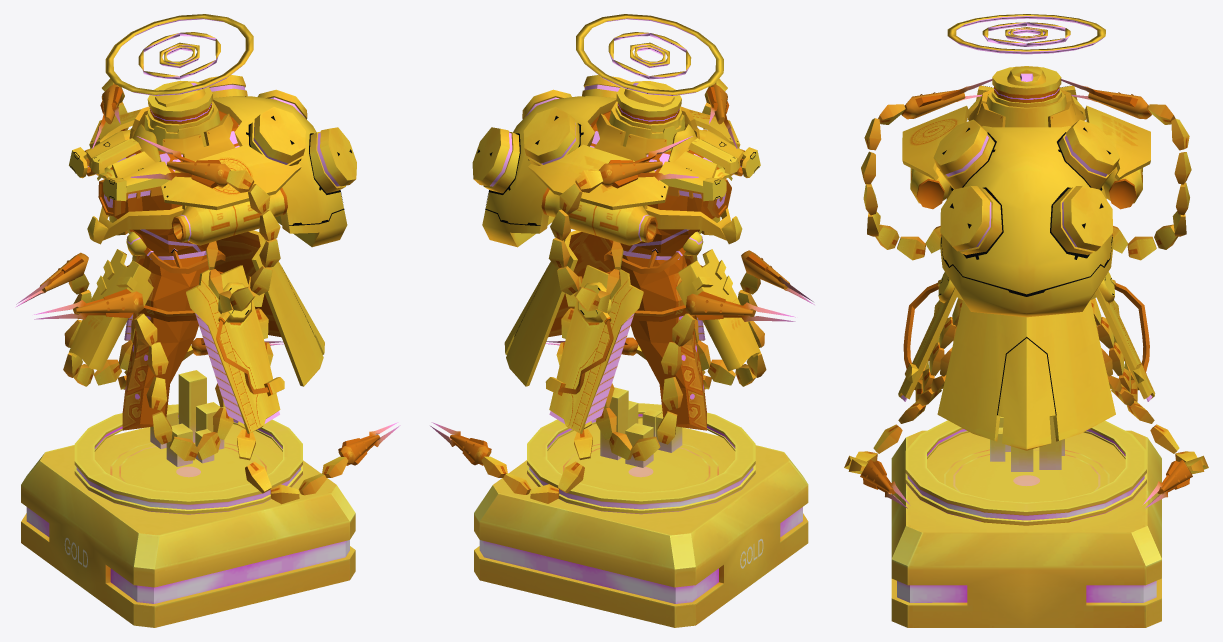
Rendered from my_trophy_hod_city_gold.glb.
3 renders of one model, left to right at view 1: azimuth 30°, elevation 25°; view 2: azimuth 150°, elevation 25°; view 3: azimuth 270°, elevation 25°, orthographic. The views are drawn at different scales.
Visible parts, largest first — view 1: my_trophy_hod_city_gold; view 2: my_trophy_hod_city_gold; view 3: my_trophy_hod_city_gold.
Boxes of the visible parts, x1=… form: my_trophy_hod_city_gold: x1=15, y1=14, x2=400, y2=627; my_trophy_hod_city_gold: x1=430, y1=14, x2=814, y2=627; my_trophy_hod_city_gold: x1=844, y1=14, x2=1208, y2=627.
Bounding box in the file's own units: 0.00566 × 0.00872 × 0.00526.
3 materials, 3 textured.
